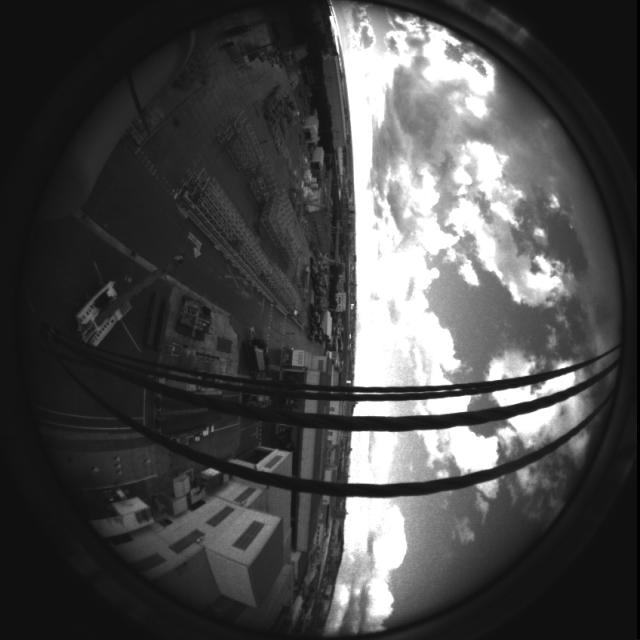rope: (27, 321, 632, 503)
sky: (321, 5, 623, 638)
